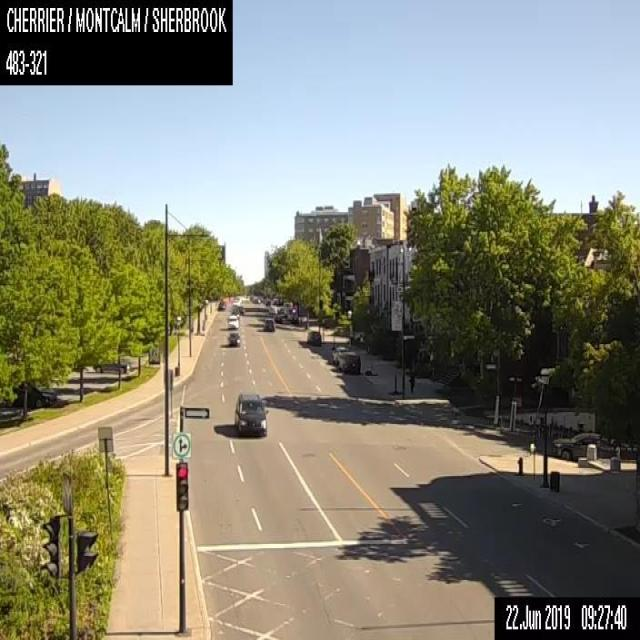pedestrian: (409, 366, 414, 394)
vehicle: (551, 431, 613, 460), (234, 391, 268, 436), (5, 382, 56, 406), (336, 352, 360, 374), (92, 360, 128, 372), (332, 346, 348, 364), (306, 330, 320, 345), (225, 314, 239, 328), (227, 331, 240, 345), (262, 318, 274, 331), (283, 301, 292, 317), (217, 298, 226, 310), (289, 313, 298, 323), (273, 313, 282, 322), (268, 304, 277, 312), (230, 304, 238, 313), (238, 305, 244, 314), (277, 305, 283, 314)
